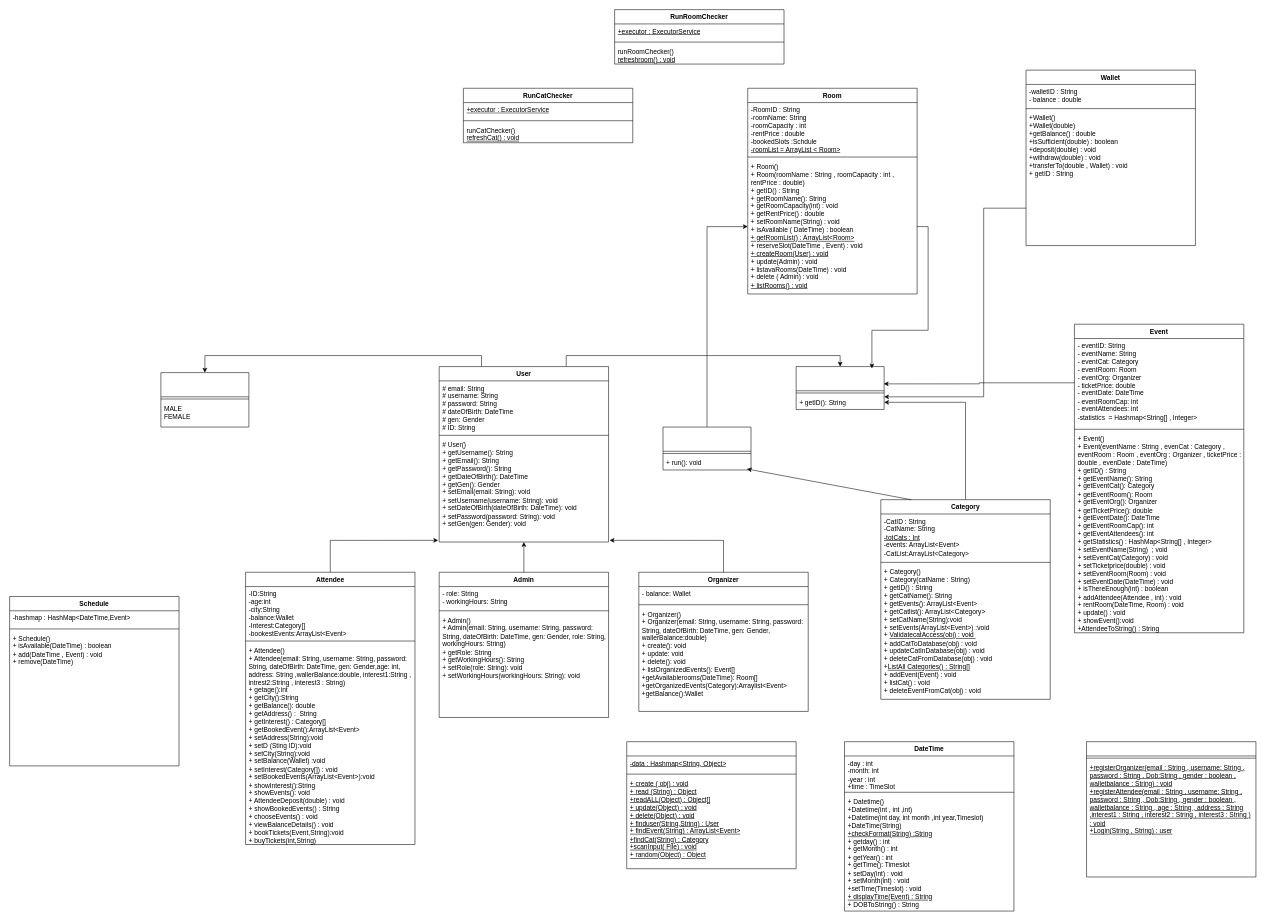
This 1266x922 diagram has some shape labels left out. The box of each missing label's shape, as (x1, y1, x2, y2) in pixels:
<<enumeration>> H asID: (160, 372, 249, 427)
<<interface>> H asID: (796, 366, 884, 409)
<<interface>> Runnable: (662, 427, 751, 470)
Database: (626, 741, 796, 869)
Entrance: (1086, 741, 1256, 877)
